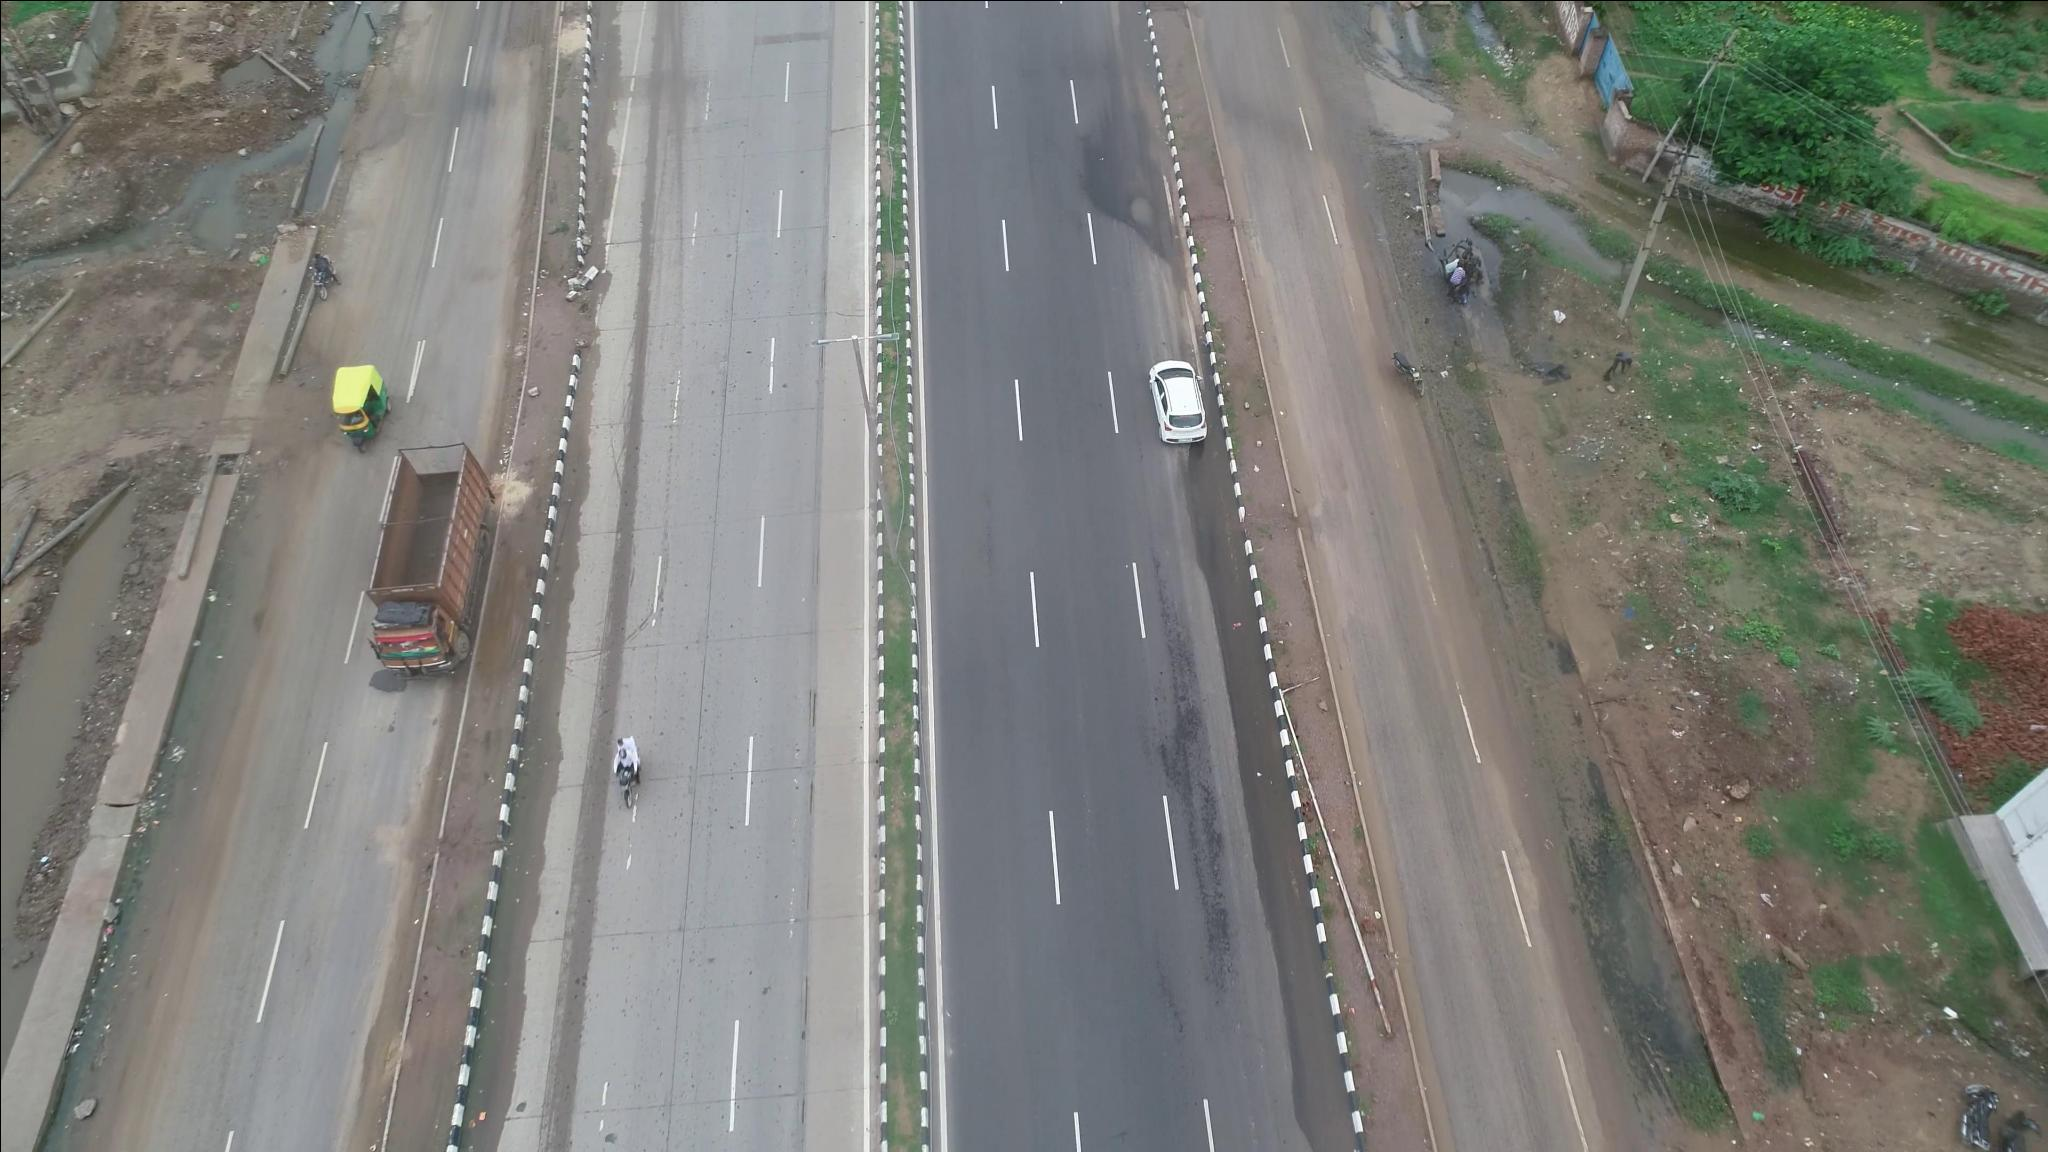Ravelling: (1160, 613, 1253, 949)
